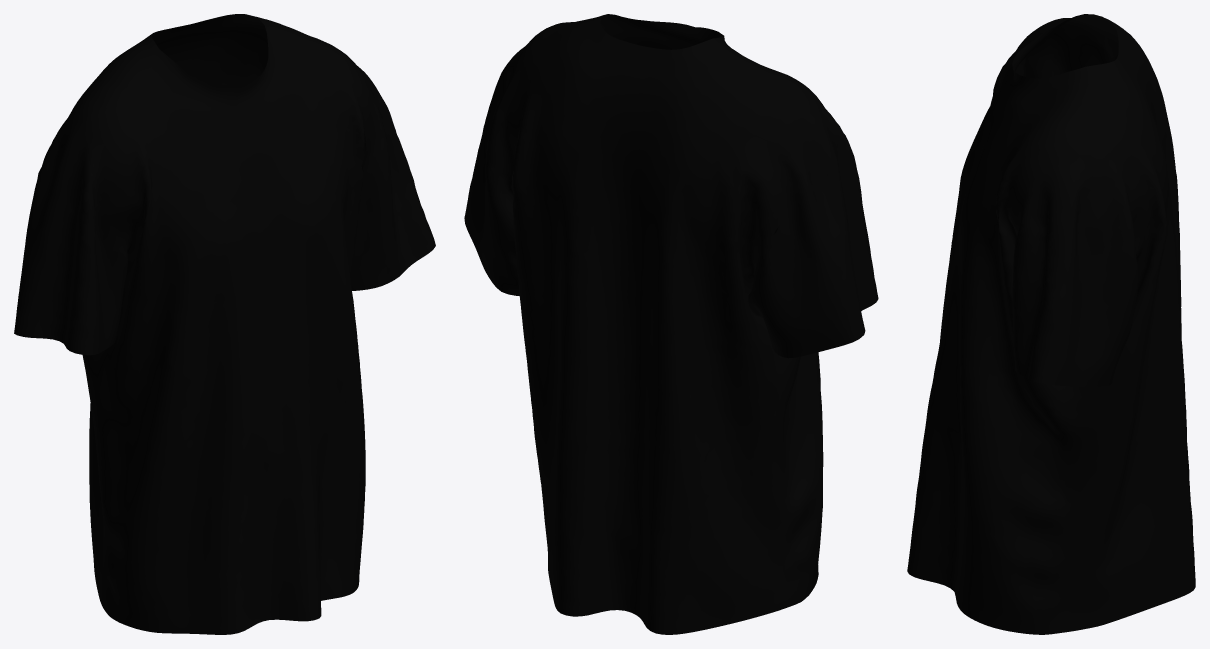
Rendered from newtntshirt1.glb.
The picture shows the model from 3 angles, left to right: view 1: azimuth 30°, elevation 25°; view 2: azimuth 150°, elevation 25°; view 3: azimuth 270°, elevation 25°; orthographic projection. The views are drawn at different scales.
Visible parts, largest first — view 1: tshirt; view 2: tshirt; view 3: tshirt.
Boxes of the visible parts, x1=… form: tshirt: x1=14, y1=14, x2=435, y2=634; tshirt: x1=464, y1=14, x2=878, y2=634; tshirt: x1=907, y1=14, x2=1195, y2=634.
Size of the model in its own units: 0.545 by 0.71 by 0.3433.
Materials: 1 (1 with a texture image).
